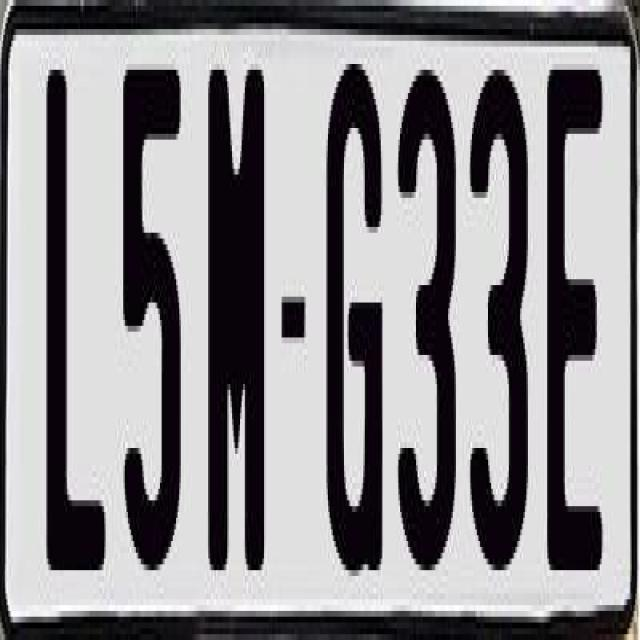3: (398, 52, 466, 582), (466, 58, 530, 576)
5: (120, 58, 187, 594)
E: (544, 52, 605, 564)
G: (323, 52, 381, 576)
L: (46, 64, 110, 576)
M: (208, 58, 272, 582)
